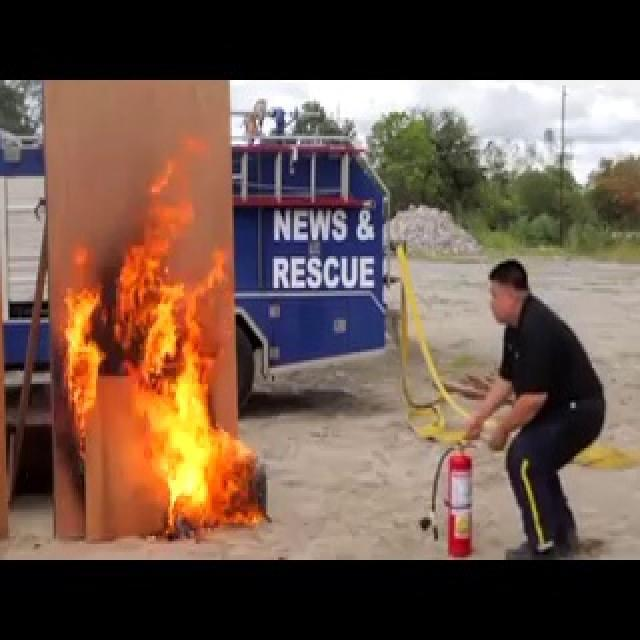fire: (65, 153, 267, 540)
